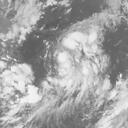cyclone: (42, 21, 107, 99)
